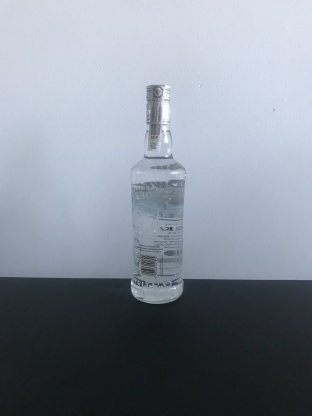nakretka: (143, 81, 172, 128)
